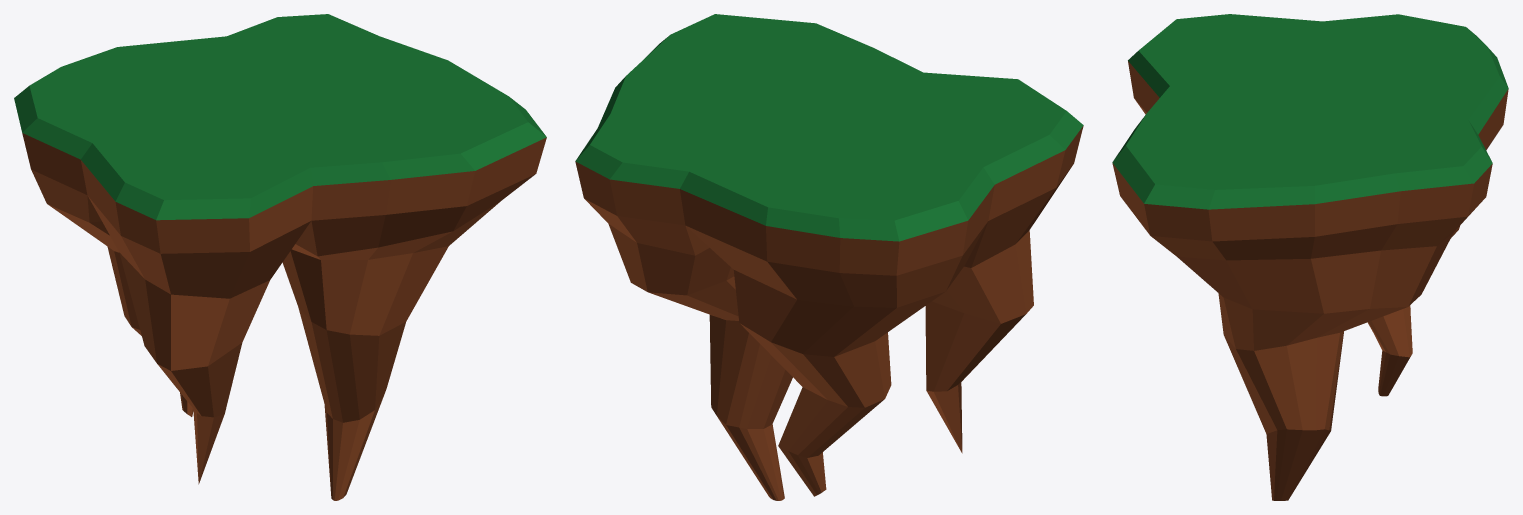
Rendered from Island01_FBX.fbx.
3 views of the same model, side by side, from view 1: azimuth 30°, elevation 25°; view 2: azimuth 150°, elevation 25°; view 3: azimuth 270°, elevation 25° (orthographic). The views are drawn at different scales.
Visible parts, largest first — view 1: Island_001; view 2: Island_001; view 3: Island_001.
Boxes of the visible parts, x1,y1,x2,y2 form: Island_001: [14, 14, 546, 500]; Island_001: [575, 14, 1083, 500]; Island_001: [1112, 14, 1508, 500].
Size of the model in its own units: 2165 by 2022 by 1929.
